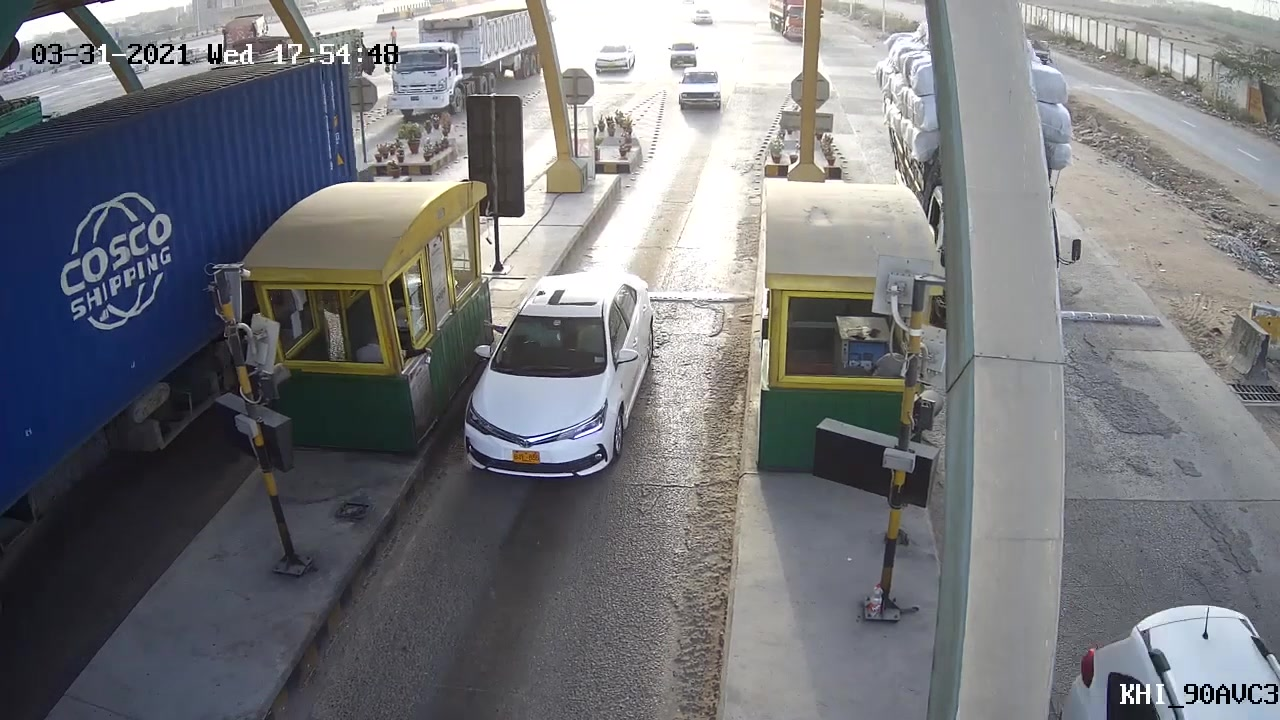F1: (458, 269, 660, 491)
